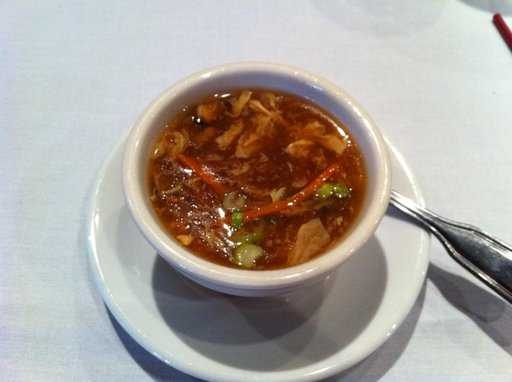soup: (141, 91, 349, 266)
